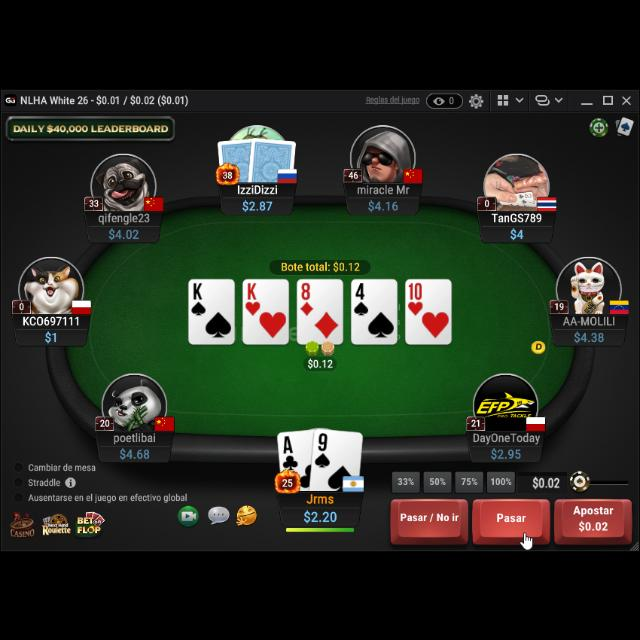4s: (352, 280, 370, 316)
8d: (299, 279, 315, 315)
9s: (312, 429, 333, 468)
Ac: (281, 432, 301, 472)
Kh: (245, 278, 261, 316)
Ks: (190, 278, 208, 316)
Th: (406, 282, 424, 316)
bet_text: (306, 355, 336, 369)
card_back: (248, 132, 298, 186), (215, 135, 259, 185)
dealer: (529, 336, 547, 354)
hero_active: (388, 496, 634, 546)
pot_text: (282, 258, 361, 272)
stack_text: (302, 505, 338, 523), (117, 444, 151, 461), (107, 224, 141, 240), (572, 328, 606, 344), (491, 445, 524, 461), (240, 197, 276, 211), (366, 196, 400, 210), (42, 327, 59, 343), (508, 224, 526, 238)
